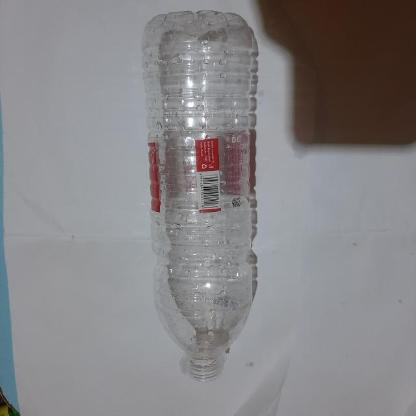Plastic Bottle: (142, 11, 256, 383)
